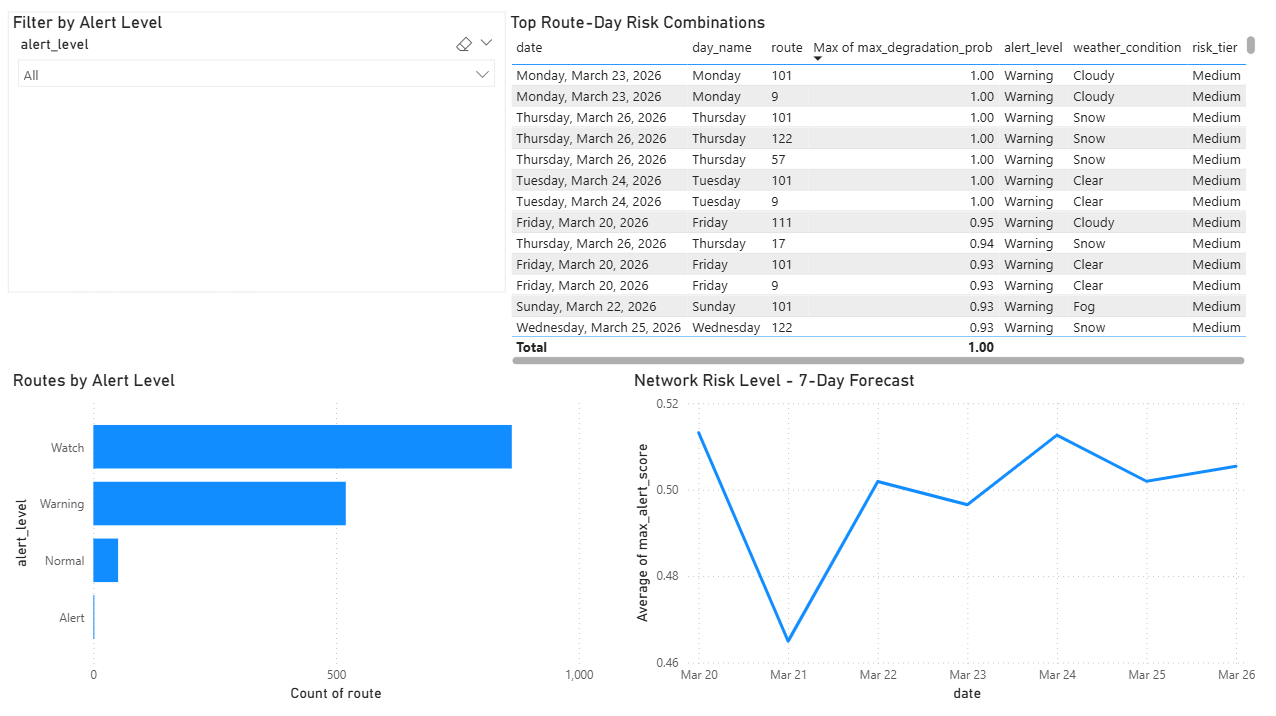

Layout of this report page (visuals, bound fields, positions):
{"tool":"powerbi","page":{"name":"7-Day Risk Forecast","canvas":[1280,720],"ordinal":3},"visuals":[{"type":"tableEx","title":"Top Route-Day Risk Combinations","fields":{"Values":["Forecast.date","Forecast.day_name","Forecast.route","Max(Forecast.max_degradation_prob)","Forecast.alert_level","Forecast.weather_condition","Forecast.risk_tier"]},"box":[506.2,12.5,755,358.8],"z":0},{"type":"clusteredBarChart","title":"Routes by Alert Level","fields":{"Category":["Forecast.alert_level"],"Y":["CountNonNull(Forecast.route)"]},"box":[8.8,371.2,591.2,336.2],"z":1000},{"type":"lineChart","title":"Network Risk Level -  7-Day Forecast","fields":{"Y":["Avg(Forecast.max_alert_score)"],"Category":["Forecast.date"]},"box":[630,371.2,631.2,336.2],"z":2000},{"type":"slicer","title":"Filter by Alert Level","fields":{"Values":["Forecast.alert_level"]},"box":[8.8,12.5,497.5,281.2],"z":3000}]}

Visuals, with their boxes in screenshot pixels (x1, y1, x2, y2), scaled from the page's 1280x720 canvas onto the 1276x716 screenshot:
"Top Route-Day Risk Combinations" tableEx: 505,12,1257,369
"Routes by Alert Level" clusteredBarChart: 9,369,598,703
"Network Risk Level -  7-Day Forecast" lineChart: 628,369,1257,703
"Filter by Alert Level" slicer: 9,12,505,292
